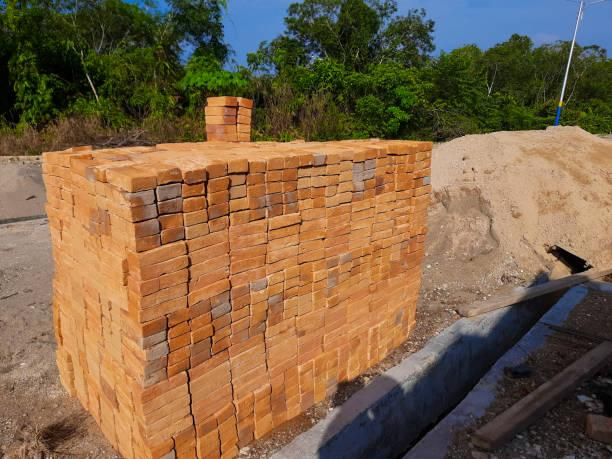Bricks: (76, 268, 127, 318), (69, 258, 126, 298), (135, 404, 193, 436), (138, 416, 195, 448), (126, 241, 187, 269), (127, 375, 190, 402), (133, 383, 191, 412), (128, 267, 188, 295), (131, 396, 191, 424), (128, 295, 187, 322), (126, 256, 187, 281), (128, 284, 187, 308), (189, 349, 228, 385), (191, 382, 233, 415), (189, 365, 231, 396), (190, 374, 233, 404), (198, 401, 237, 434), (121, 308, 167, 335), (110, 216, 160, 239), (189, 278, 231, 304), (87, 180, 127, 207), (60, 221, 100, 248), (111, 230, 160, 252), (227, 334, 270, 359), (189, 267, 230, 292), (109, 171, 155, 193), (189, 241, 229, 266), (189, 252, 229, 277), (231, 376, 268, 403), (61, 233, 98, 260), (109, 202, 156, 223), (231, 355, 270, 380), (194, 396, 231, 422), (187, 230, 227, 254), (127, 341, 168, 364), (123, 328, 166, 349), (126, 365, 165, 388), (230, 265, 267, 289), (295, 323, 328, 349), (233, 344, 265, 370), (234, 367, 267, 392), (123, 354, 165, 373), (229, 218, 269, 237), (269, 357, 297, 382), (267, 317, 296, 341), (267, 211, 303, 230), (229, 245, 267, 263), (200, 428, 224, 456), (140, 157, 175, 176), (268, 222, 300, 242), (267, 253, 299, 273), (339, 254, 371, 274), (295, 308, 325, 329), (267, 234, 300, 253), (72, 190, 105, 209), (186, 297, 211, 322), (347, 293, 374, 316), (75, 212, 103, 234), (102, 341, 124, 369), (268, 342, 295, 364), (267, 244, 299, 262), (323, 321, 349, 343), (229, 234, 267, 249), (188, 307, 215, 328), (343, 279, 370, 300), (165, 155, 198, 172), (230, 255, 265, 271), (297, 317, 325, 337), (298, 346, 324, 367), (396, 208, 427, 225), (349, 313, 371, 336), (100, 250, 122, 273), (297, 245, 325, 263), (100, 379, 117, 408), (169, 319, 191, 341), (102, 237, 125, 258), (168, 347, 192, 367), (397, 201, 429, 216), (100, 264, 124, 284), (267, 331, 295, 348), (75, 200, 100, 219), (44, 165, 73, 181), (168, 309, 189, 331), (169, 332, 191, 353), (168, 359, 191, 379), (220, 414, 237, 441), (82, 338, 101, 362), (111, 163, 149, 175), (182, 209, 207, 227), (112, 365, 129, 391), (160, 226, 183, 245), (213, 323, 232, 346), (191, 347, 212, 367), (230, 291, 249, 313), (325, 333, 347, 352), (349, 216, 373, 233), (347, 305, 371, 322), (185, 222, 210, 238), (370, 191, 395, 207), (326, 232, 351, 248), (384, 231, 409, 247), (190, 338, 211, 357), (191, 325, 213, 343), (349, 323, 371, 341), (113, 428, 131, 450), (299, 220, 327, 234), (83, 280, 100, 303), (213, 312, 232, 332), (327, 301, 347, 320), (300, 206, 327, 220), (299, 228, 326, 242), (340, 273, 358, 294), (311, 174, 340, 187), (158, 216, 183, 231), (299, 238, 324, 253), (115, 379, 130, 404), (368, 275, 391, 291), (231, 316, 250, 335), (103, 333, 122, 352), (207, 190, 231, 205), (114, 413, 132, 433), (208, 202, 229, 219), (85, 296, 102, 317), (100, 367, 116, 389), (102, 425, 116, 450), (182, 167, 205, 182), (326, 203, 349, 218), (351, 225, 374, 240), (222, 433, 237, 456), (230, 305, 249, 323), (247, 301, 267, 318), (237, 403, 254, 423), (351, 206, 375, 220), (326, 214, 350, 228), (238, 392, 254, 413), (255, 381, 270, 403), (410, 233, 425, 255), (156, 170, 181, 183), (269, 388, 287, 406), (86, 165, 105, 182), (354, 167, 377, 181), (327, 243, 350, 257), (102, 319, 118, 339), (327, 194, 353, 206), (328, 275, 352, 288), (87, 358, 99, 384), (327, 224, 349, 238), (284, 364, 298, 386), (230, 157, 247, 175), (249, 206, 266, 224), (231, 284, 248, 302), (231, 328, 249, 345), (206, 163, 225, 179), (209, 216, 228, 232), (247, 182, 267, 197), (158, 199, 181, 212), (372, 210, 395, 223), (100, 397, 113, 420), (373, 220, 394, 234), (392, 239, 409, 256), (298, 370, 315, 387), (183, 198, 207, 210), (250, 276, 266, 294), (267, 281, 285, 297), (213, 337, 229, 355), (300, 359, 316, 377), (209, 291, 228, 306), (373, 247, 392, 262), (230, 198, 250, 212), (365, 186, 385, 200), (373, 228, 393, 242), (270, 375, 284, 395), (314, 285, 337, 297), (350, 237, 371, 250), (102, 312, 119, 328), (228, 185, 246, 200), (239, 423, 254, 441), (411, 184, 430, 198), (158, 186, 180, 198), (279, 169, 299, 182), (117, 399, 130, 419), (239, 431, 252, 451), (232, 209, 249, 224), (255, 416, 270, 433), (374, 202, 397, 213), (316, 297, 339, 308), (269, 290, 283, 308), (255, 397, 269, 415), (287, 380, 299, 401), (100, 353, 112, 374), (249, 194, 268, 207), (89, 403, 100, 425), (375, 165, 399, 175), (283, 266, 298, 282), (268, 302, 284, 317), (397, 188, 413, 203), (46, 184, 61, 200), (302, 379, 317, 395), (339, 178, 356, 192), (251, 289, 268, 303), (252, 311, 269, 325), (207, 178, 225, 191), (328, 320, 346, 333), (72, 159, 85, 177), (388, 146, 411, 156), (352, 199, 371, 211), (268, 313, 283, 328), (232, 174, 248, 188), (215, 303, 231, 317), (268, 272, 285, 285), (203, 114, 220, 127), (132, 194, 154, 204), (378, 173, 396, 185), (269, 157, 283, 172), (183, 186, 204, 196), (298, 283, 313, 297), (251, 322, 265, 337), (103, 414, 114, 433), (88, 388, 99, 407), (354, 246, 370, 259), (282, 180, 299, 192), (414, 168, 431, 180), (282, 190, 297, 203), (286, 276, 299, 291), (371, 238, 384, 253), (86, 331, 101, 344), (75, 395, 87, 411), (377, 156, 396, 166), (265, 184, 282, 195), (206, 109, 223, 120), (284, 156, 298, 169), (268, 203, 281, 217), (395, 224, 408, 238), (87, 321, 100, 335), (328, 265, 340, 280), (299, 301, 314, 313), (249, 161, 265, 172), (266, 194, 282, 205), (412, 141, 428, 152), (395, 156, 414, 165), (117, 441, 127, 458), (207, 96, 224, 106), (341, 169, 354, 182), (313, 187, 326, 200), (284, 201, 298, 213), (396, 197, 410, 209), (338, 344, 350, 358), (311, 165, 326, 176), (296, 179, 311, 190), (299, 264, 314, 275), (283, 288, 298, 299), (111, 305, 122, 320), (206, 123, 221, 134), (414, 179, 432, 188), (415, 193, 431, 203), (313, 272, 326, 284), (88, 313, 100, 326), (315, 355, 327, 368), (298, 199, 312, 210), (312, 197, 326, 208), (414, 150, 431, 159), (221, 114, 236, 124), (315, 380, 327, 392), (340, 353, 348, 371), (265, 169, 278, 180), (364, 159, 377, 170), (313, 260, 326, 271), (285, 308, 296, 321), (98, 209, 109, 222), (316, 370, 327, 383), (326, 164, 340, 174), (327, 258, 336, 273), (299, 187, 311, 198), (341, 252, 352, 264), (61, 192, 72, 204), (350, 338, 361, 350), (340, 152, 353, 162), (313, 281, 326, 291), (222, 123, 235, 133), (249, 173, 263, 182), (296, 168, 310, 177), (366, 176, 375, 190), (297, 293, 311, 302), (238, 99, 252, 108), (353, 152, 364, 163), (353, 189, 364, 200), (238, 106, 249, 117), (354, 181, 366, 191), (101, 296, 109, 311), (224, 104, 236, 114), (299, 155, 312, 164), (325, 156, 338, 165), (366, 149, 375, 162), (237, 122, 250, 131), (416, 157, 429, 166), (340, 164, 354, 172), (352, 163, 363, 173), (302, 275, 314, 284), (282, 299, 295, 307), (239, 132, 249, 142), (314, 155, 325, 164), (385, 181, 393, 193), (222, 133, 234, 141), (210, 133, 222, 141), (224, 97, 234, 106), (327, 186, 338, 194), (237, 117, 248, 124), (379, 149, 385, 156)
